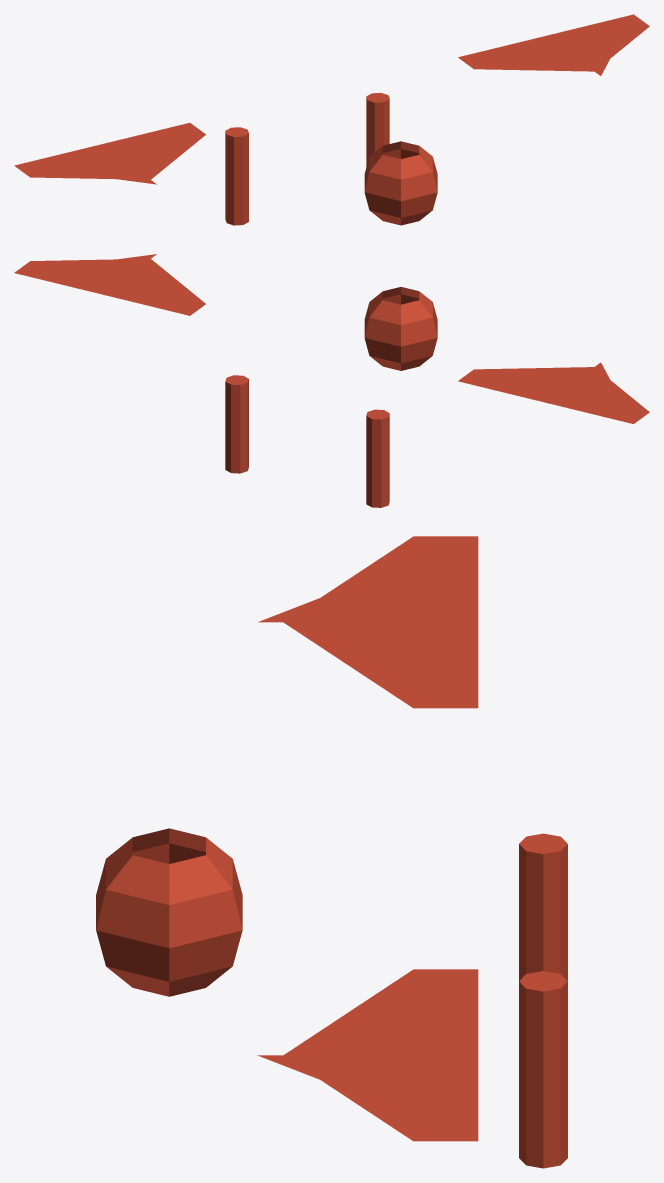
File: sky_dragon.obj
3 renders of one model, top to bottom at view 1: azimuth 30°, elevation 25°; view 2: azimuth 150°, elevation 25°; view 3: azimuth 270°, elevation 25°, orthographic. The views are drawn at different scales.
Size of the model in its own units: 8.8 by 1.7 by 2.9.
